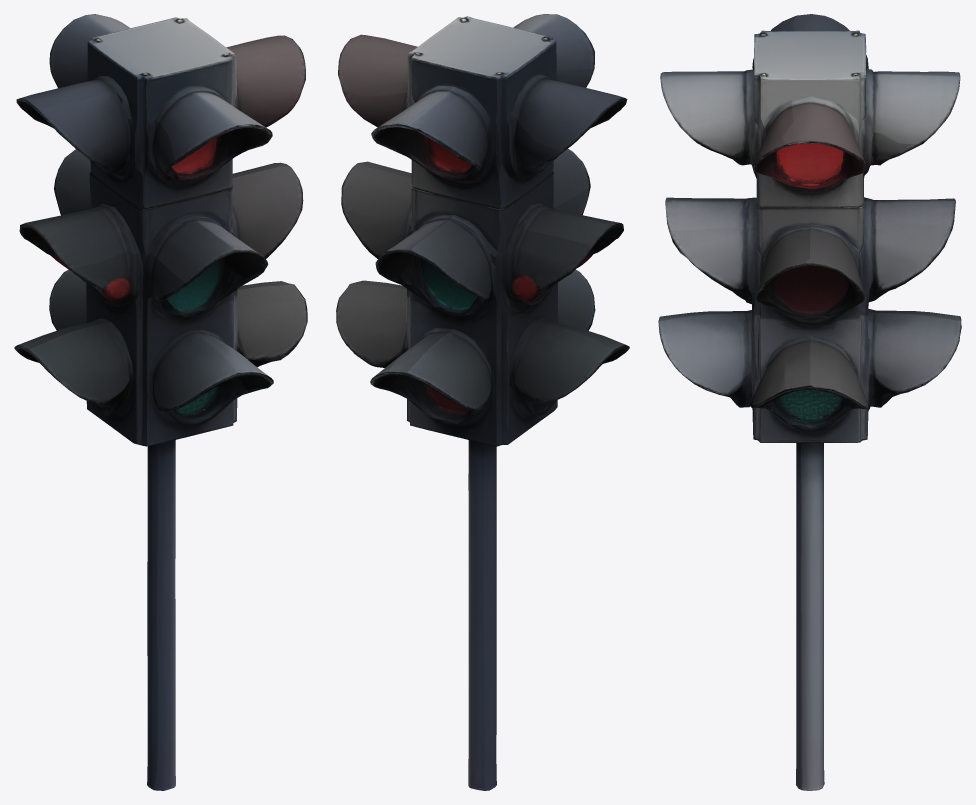
Rendered from traffic-light.glb.
3 renders of one model, left to right at view 1: azimuth 30°, elevation 25°; view 2: azimuth 150°, elevation 25°; view 3: azimuth 270°, elevation 25°, orthographic.
Visible parts, largest first — view 1: geometry_0; view 2: geometry_0; view 3: geometry_0.
Part boxes in pixels (<box>): geometry_0: <box>14,14,307,790</box>; geometry_0: <box>336,14,629,790</box>; geometry_0: <box>658,14,961,790</box>.
Size of the model in its own units: 0.3767 by 0.9993 by 0.3752.
1 material, 1 textured.
